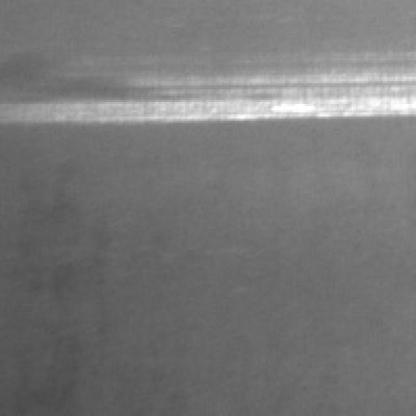scratches: (8, 54, 416, 123)
